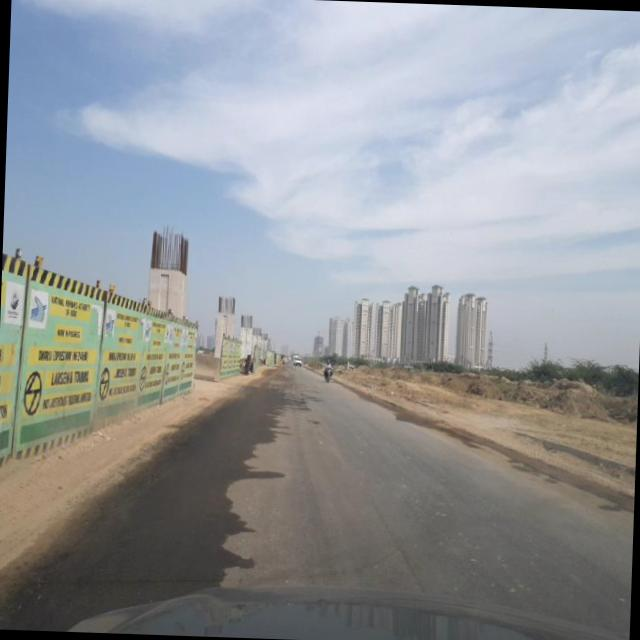pothole: (352, 471, 421, 588)
